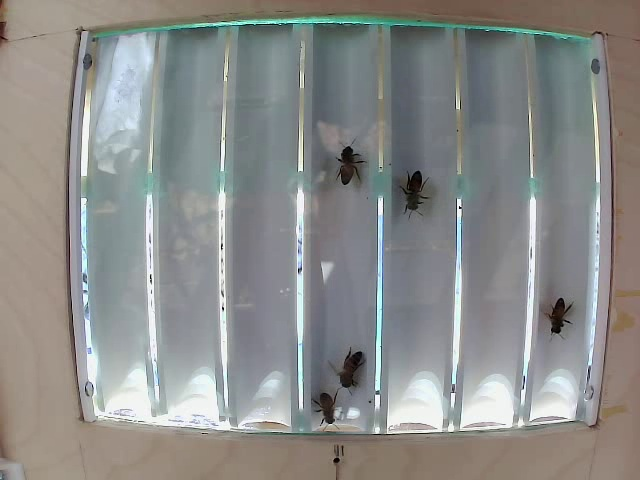bee: (327, 344, 391, 392), (397, 166, 433, 221), (330, 141, 367, 191), (543, 296, 574, 341), (316, 393, 341, 424)
